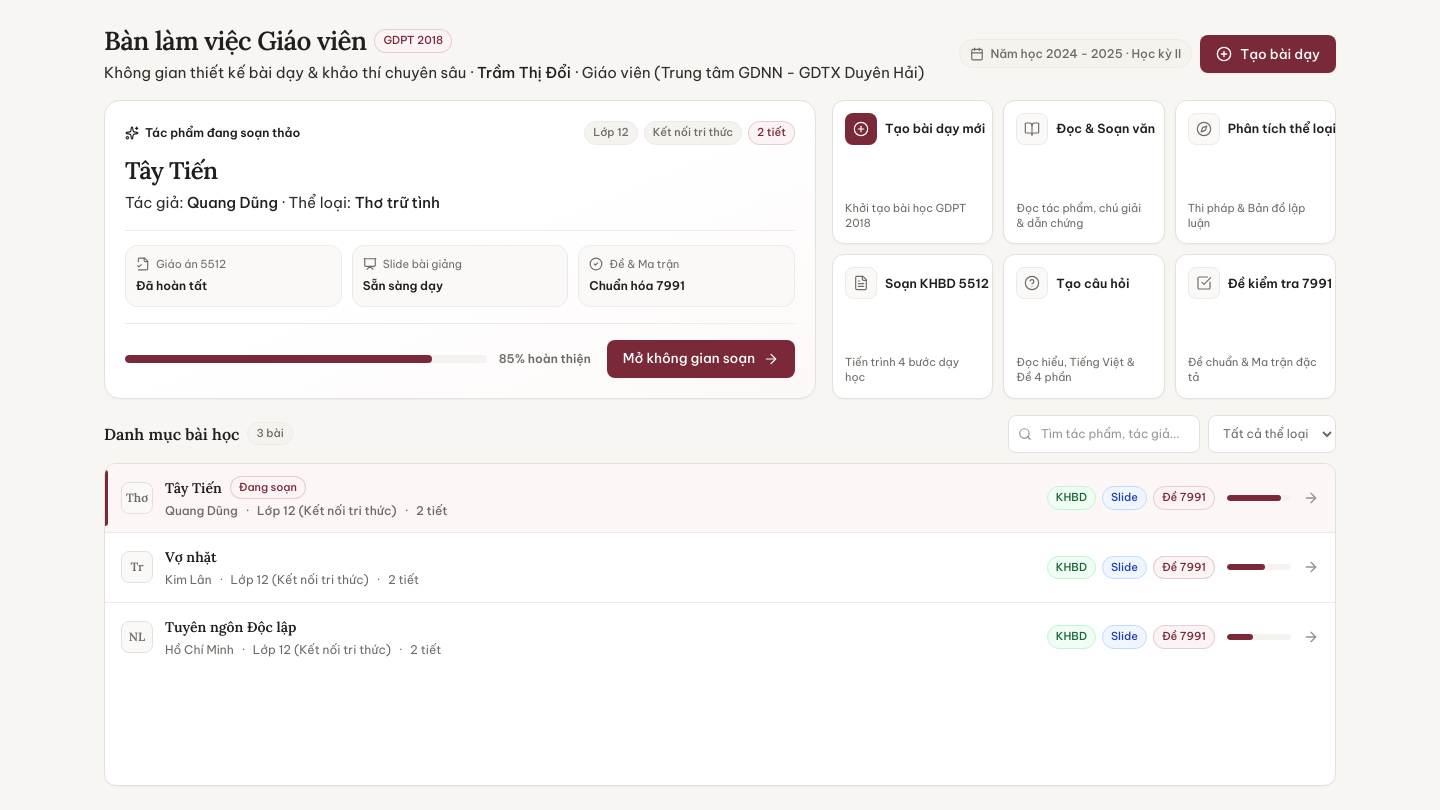
Test: Functional: TeacherDashboard & Lesson Lifecycle › Create Lesson Modal & Validation Flow › shows validation errors when required fields are empty
Note: Open modal
Click the button "Tạo bài dạy" at (1268, 54), box top-left (1200, 35), bottom-right (1336, 73)
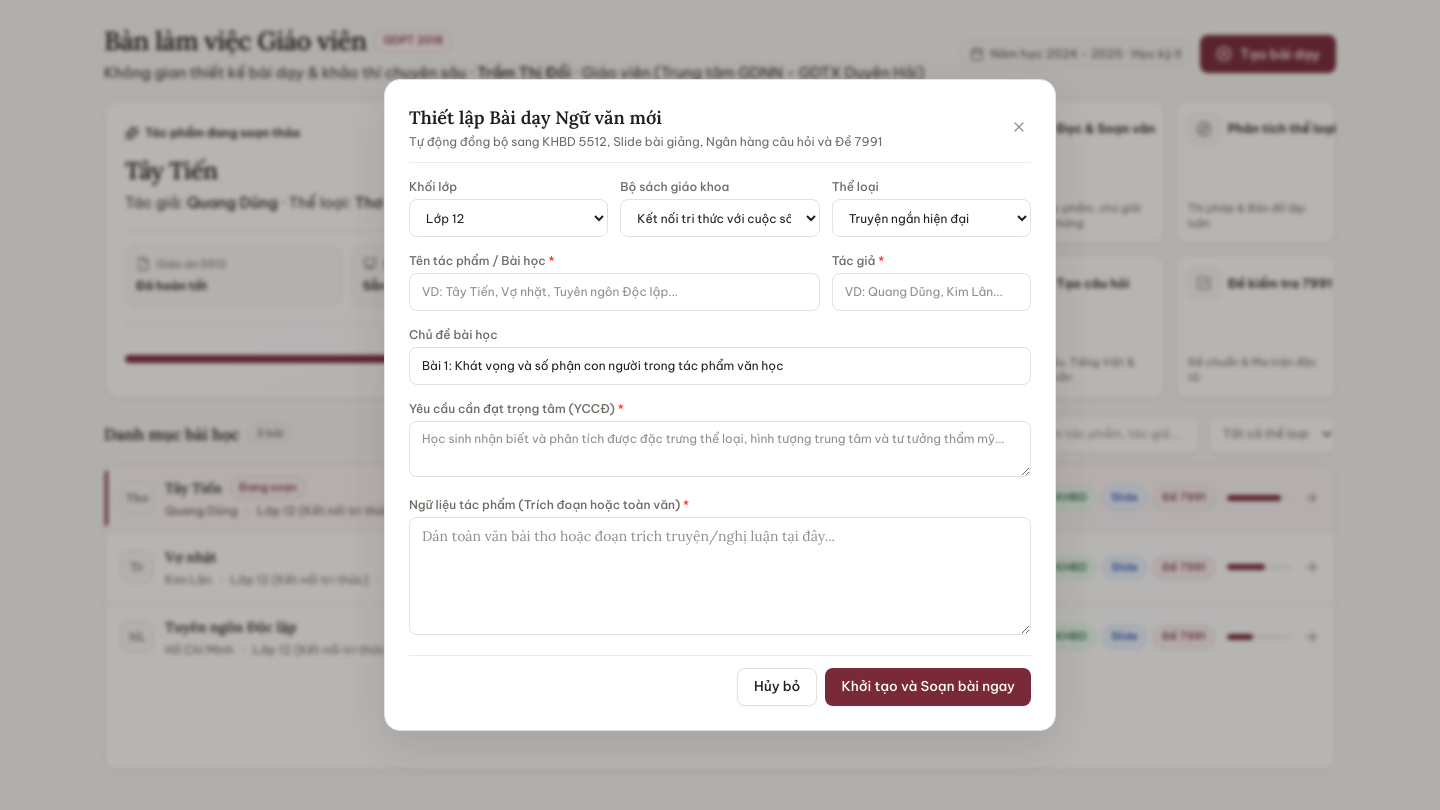
Note: Submit without entering data
Click the button "Khởi tạo và Soạn bài ngay" at (928, 687), box top-left (825, 668), bottom-right (1031, 706)
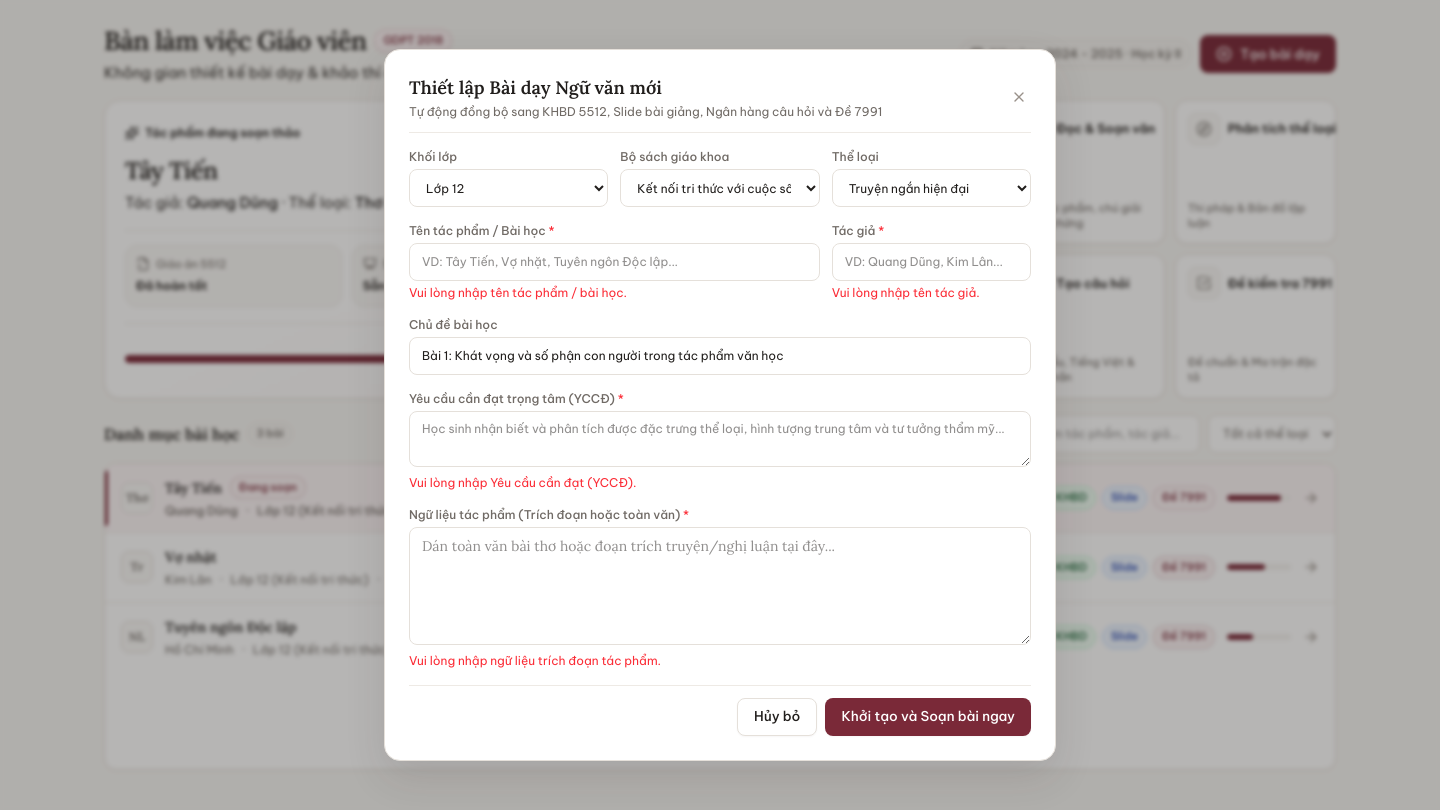
Expected: the text "Vui lòng nhập tên tác phẩm / bài học." is shown, top-left (409, 285), bottom-right (627, 300)
Expected: the text "Vui lòng nhập tên tác giả." is shown, top-left (832, 285), bottom-right (980, 300)
Expected: the text "Vui lòng nhập Yêu cầu cần đạt (YCCĐ)." is shown, top-left (409, 475), bottom-right (636, 490)
